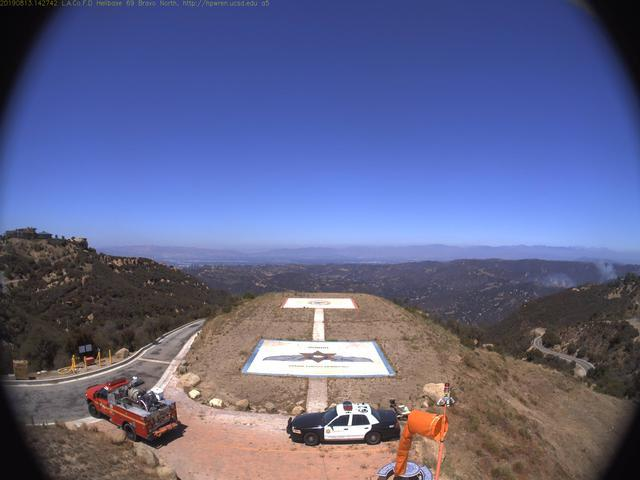smoke: (535, 253, 622, 292)
